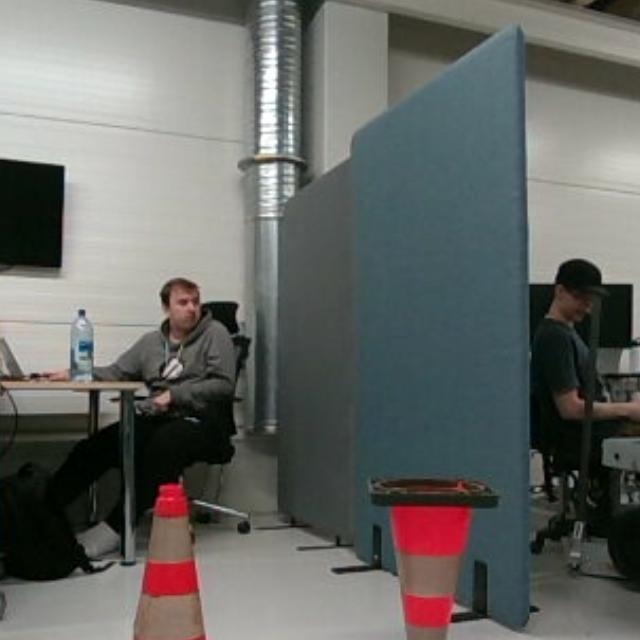Traffic-cone: (368, 470, 497, 640), (98, 480, 235, 640)
